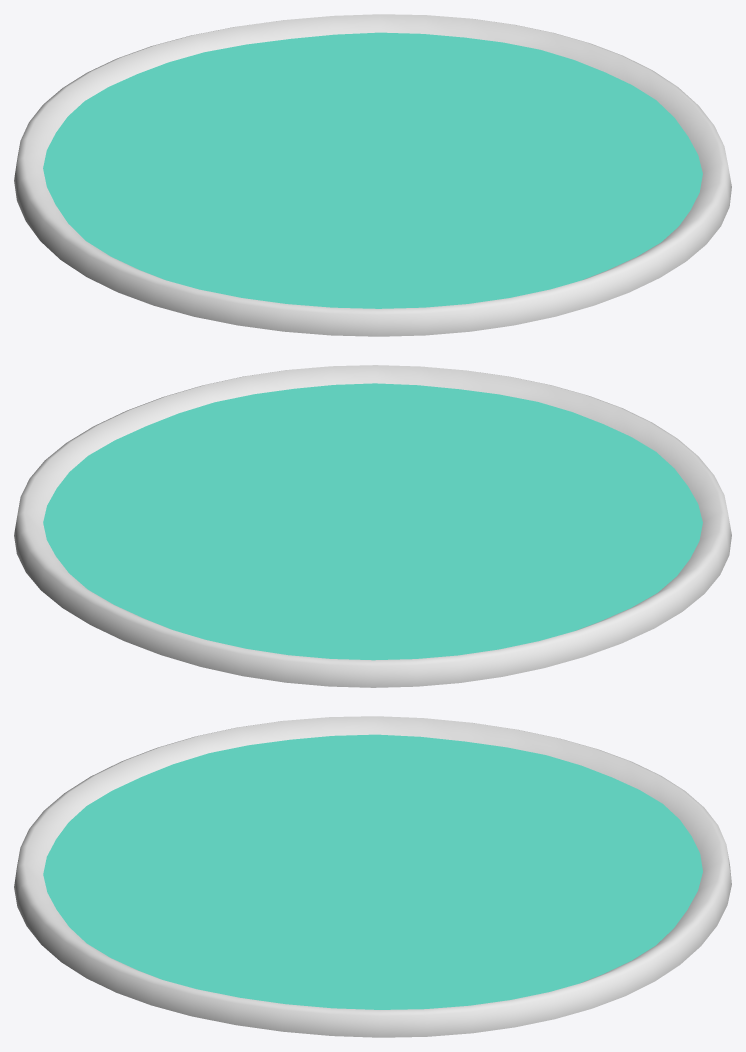
The model's file is CircleTrees_Clean.fbx.
The picture shows the model from 3 angles, top to bottom: view 1: azimuth 30°, elevation 25°; view 2: azimuth 150°, elevation 25°; view 3: azimuth 270°, elevation 25°; orthographic projection.
Visible parts, largest first — view 1: CircleTrees_Clean; view 2: CircleTrees_Clean; view 3: CircleTrees_Clean.
Part boxes in pixels (x1,y1,x2,y2): CircleTrees_Clean: (14,14,731,336); CircleTrees_Clean: (14,365,731,687); CircleTrees_Clean: (14,716,731,1037).
Size of the model in its own units: 538 by 19.31 by 539.
